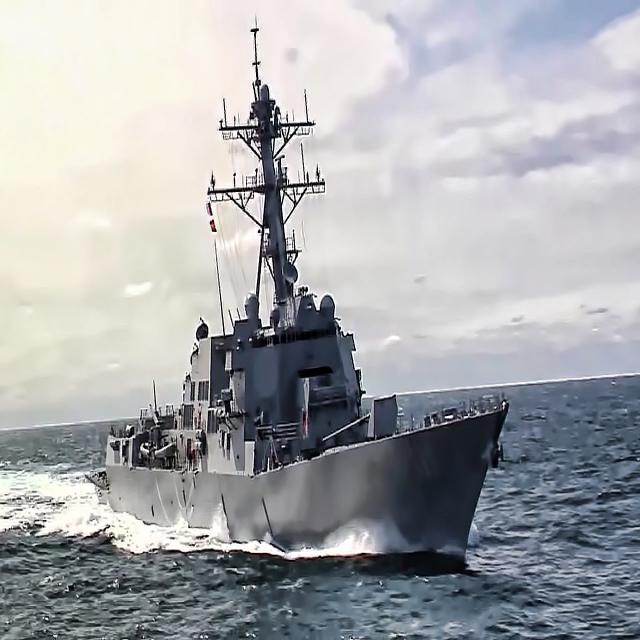navalvessels: (85, 31, 515, 561)
